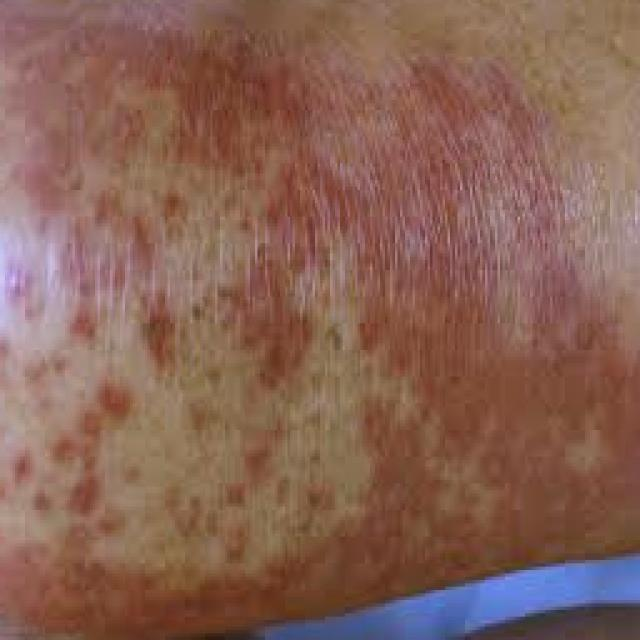Eczema: (11, 8, 600, 592)
